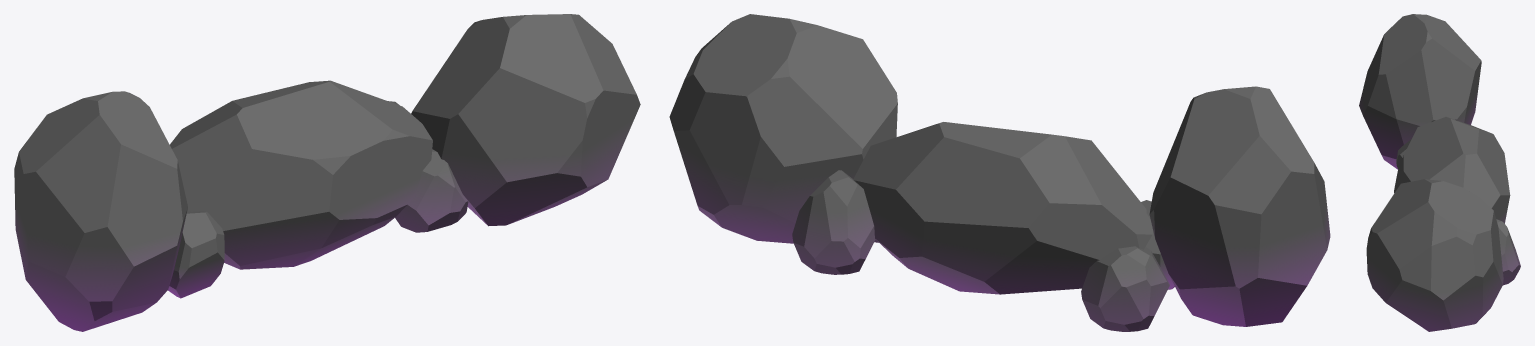
The model's file is rock2test.fbx.
The picture shows the model from 3 angles, left to right: view 1: azimuth 30°, elevation 25°; view 2: azimuth 150°, elevation 25°; view 3: azimuth 270°, elevation 25°; orthographic projection. The views are drawn at different scales.
Parts seen in each view (by area): view 1: Sphere.029, Sphere.030, Sphere.028, Sphere.032, Sphere.031; view 2: Sphere.029, Sphere.030, Sphere.028, Sphere.033, Sphere.034, Sphere.032; view 3: Sphere.030, Sphere.028, Sphere.029, Sphere.033, Sphere.032.
Boxes of the visible parts, x1,y1,x2,y2 form: Sphere.029: (170, 80, 432, 269); Sphere.030: (411, 14, 640, 226); Sphere.028: (14, 91, 187, 331); Sphere.032: (168, 211, 224, 298); Sphere.031: (395, 149, 468, 232); Sphere.029: (853, 122, 1153, 294); Sphere.030: (669, 14, 897, 243); Sphere.028: (1149, 86, 1330, 326); Sphere.033: (792, 170, 875, 274); Sphere.034: (1081, 246, 1169, 331); Sphere.032: (1141, 200, 1174, 289); Sphere.030: (1366, 179, 1503, 331); Sphere.028: (1359, 14, 1481, 169); Sphere.029: (1394, 117, 1510, 223); Sphere.033: (1496, 219, 1520, 285); Sphere.032: (1396, 139, 1411, 168).
Bounding box in the file's own units: 352 × 128 × 117.
